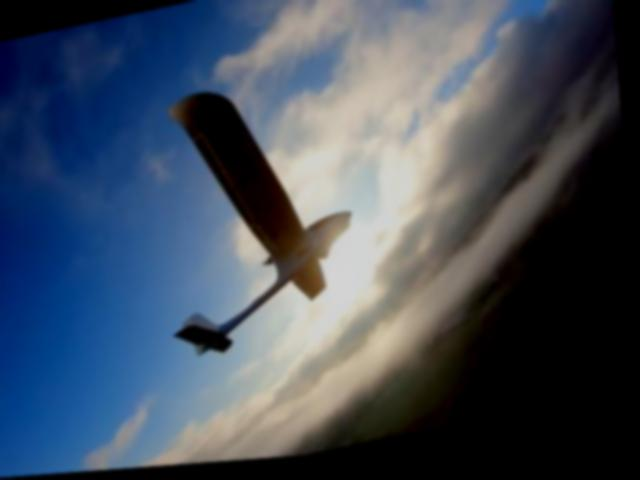uav: (135, 51, 394, 388)
